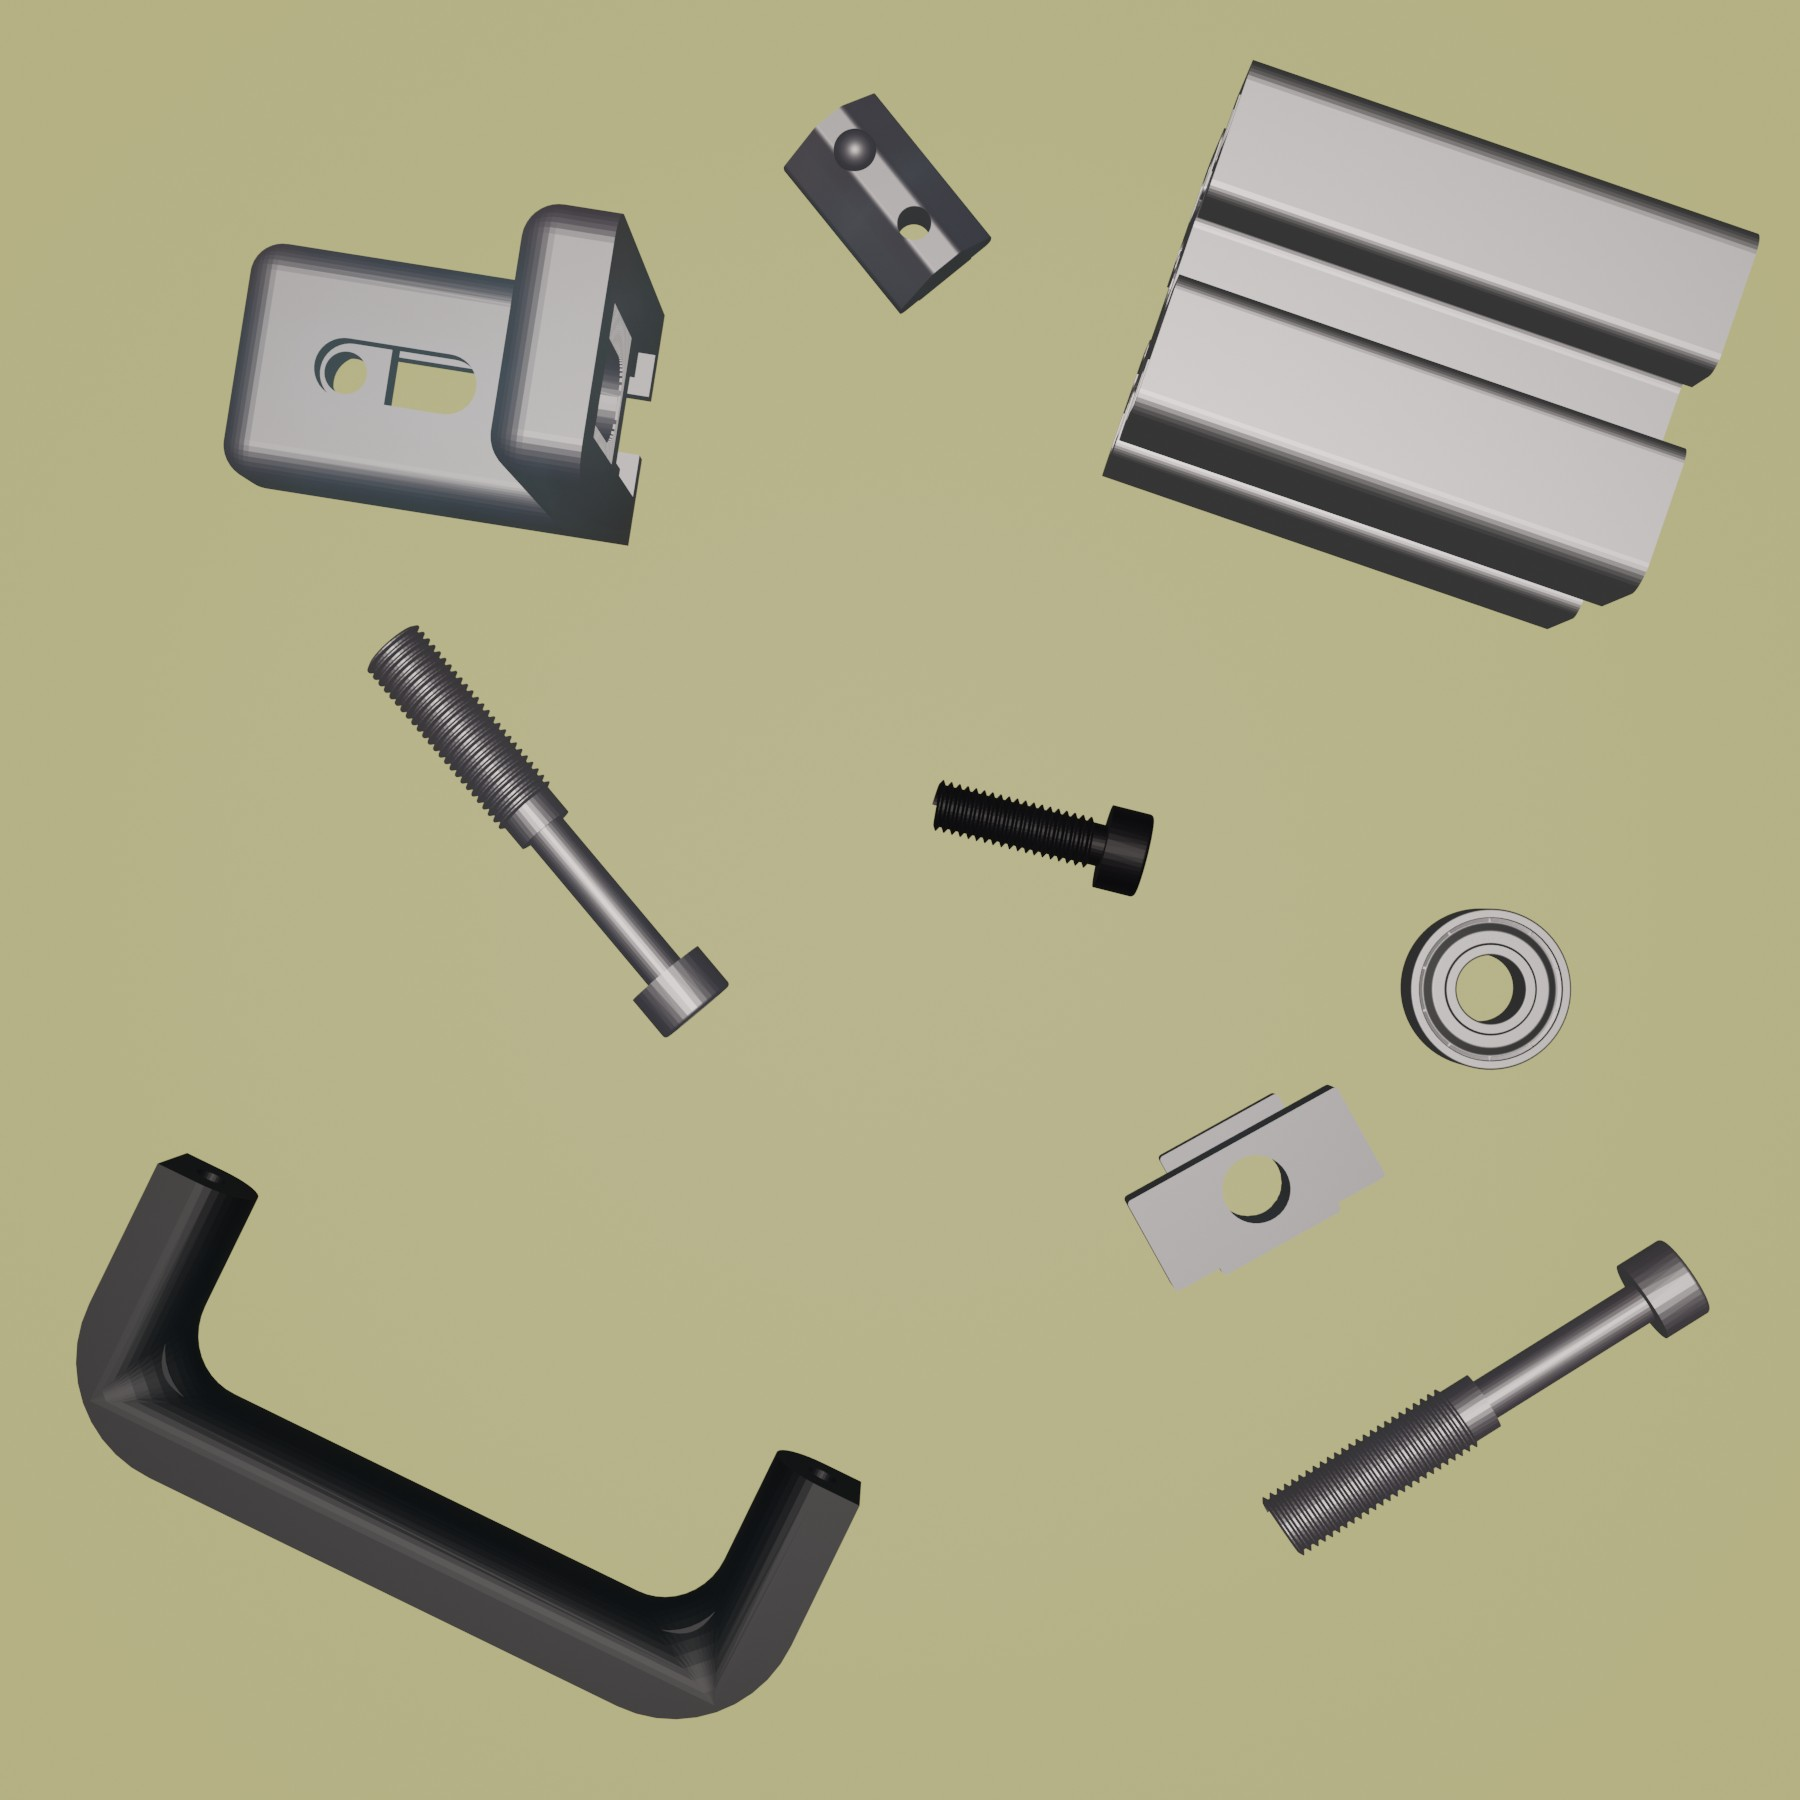Aluminium Extension: (1098, 58, 1764, 635)
Ball Bearing: (1398, 903, 1574, 1073)
Multiwinkel: (221, 201, 669, 551)
Pull Handle: (73, 1151, 862, 1724)
Shoulder Socket Head Cap Screw: (364, 625, 732, 1042), (1261, 1235, 1713, 1554)
Socket Head Cap Screw: (926, 776, 1155, 902)
T Nut Square: (1121, 1080, 1390, 1296)
T Spring Nut: (778, 89, 992, 315)
